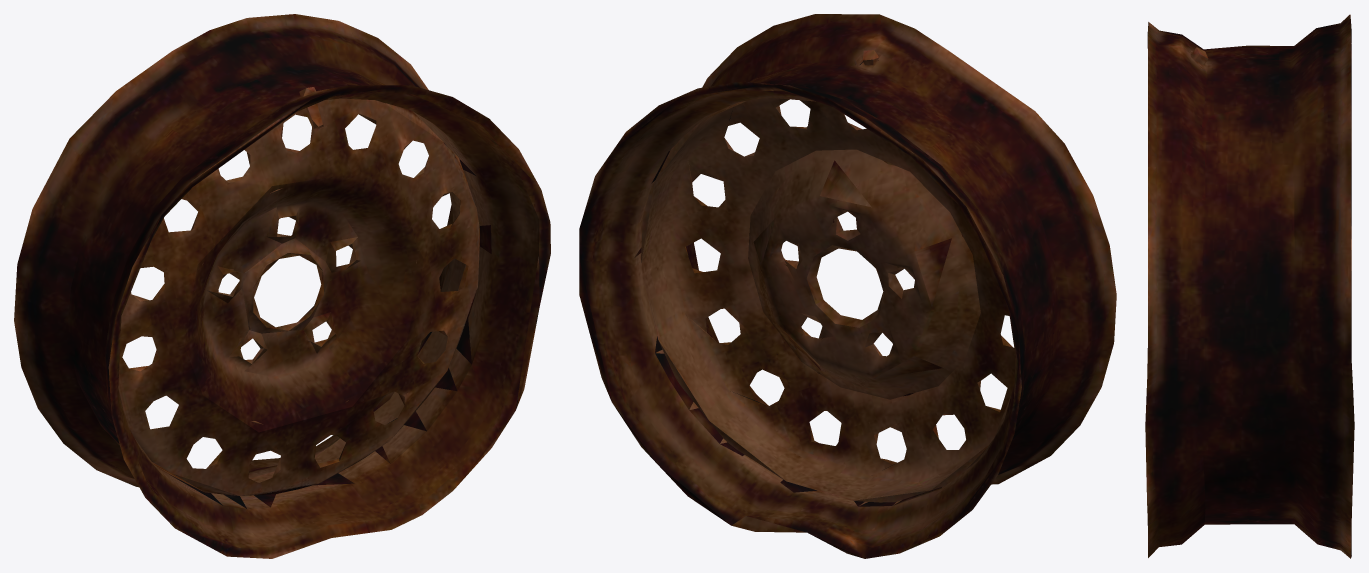
File: rusted_wheel_rim_01.glb
3 renders of one model, left to right at view 1: azimuth 30°, elevation 25°; view 2: azimuth 150°, elevation 25°; view 3: azimuth 270°, elevation 25°, orthographic. The views are drawn at different scales.
Parts seen in each view (by area): view 1: rusted_wheel_rim_01; view 2: rusted_wheel_rim_01; view 3: rusted_wheel_rim_01.
Part boxes in pixels (left/top/right/bottom): rusted_wheel_rim_01: left=14, top=14, right=550, bottom=558; rusted_wheel_rim_01: left=579, top=14, right=1116, bottom=558; rusted_wheel_rim_01: left=1145, top=14, right=1354, bottom=558.
Size of what is drawn, in the model's own units: 0.4025 by 0.3958 by 0.1538.
1 material, 1 textured.
